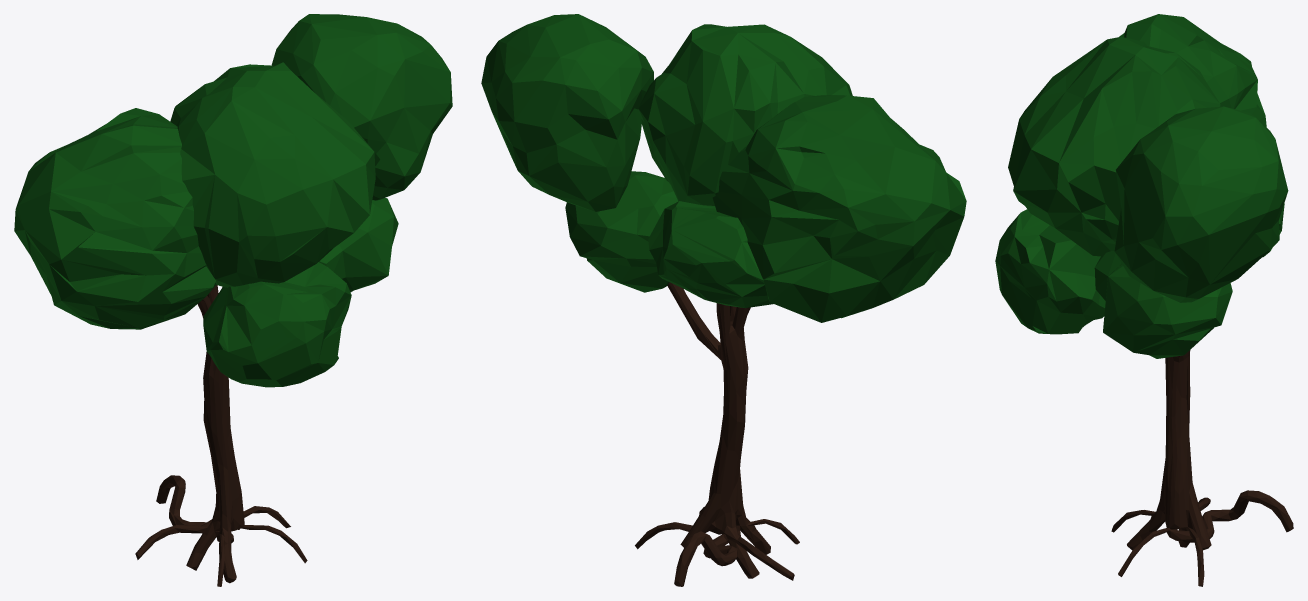
Rendered from SM_tree_01.fbx.
3 renders of one model, left to right at view 1: azimuth 30°, elevation 25°; view 2: azimuth 150°, elevation 25°; view 3: azimuth 270°, elevation 25°, orthographic. The views are drawn at different scales.
Visible parts, largest first — view 1: tree_01; view 2: tree_01; view 3: tree_01.
Part boxes in pixels (box(x1,y1,x2,y2)): tree_01: box(14, 14, 452, 586); tree_01: box(481, 14, 966, 586); tree_01: box(995, 14, 1293, 586).
Size of the model in its own units: 872 by 970 by 508.
